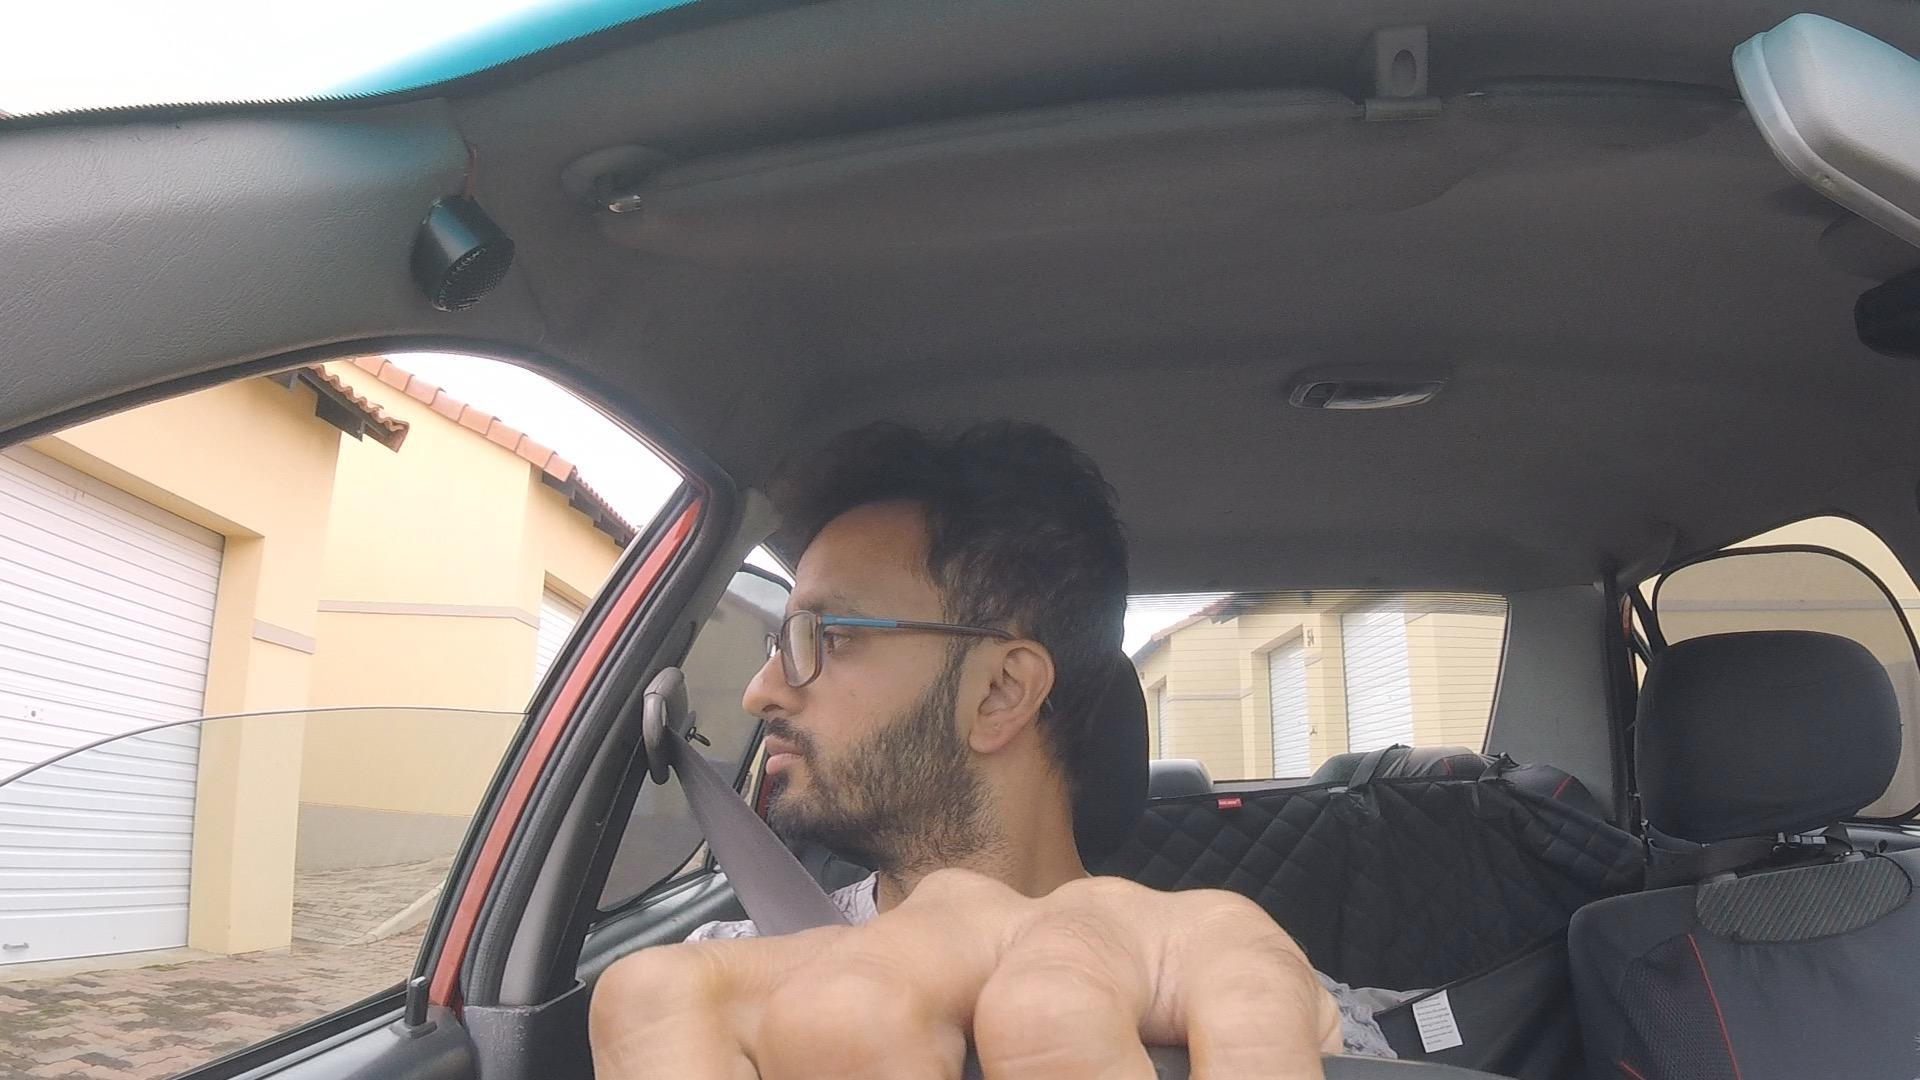SafeDriving: (742, 419, 1131, 848)
